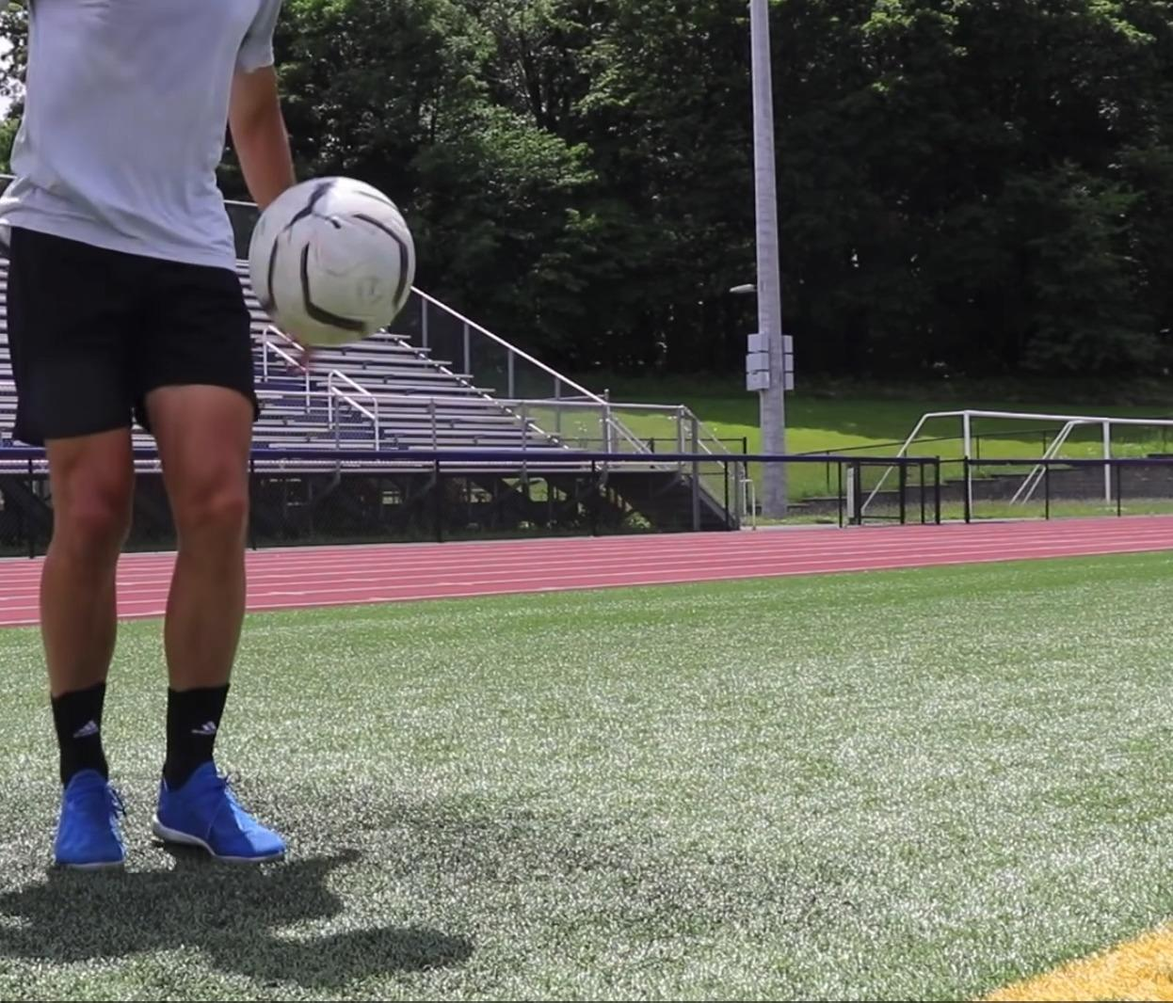ball: (253, 173, 419, 344)
foot: (144, 760, 287, 866), (46, 757, 131, 877)
person: (0, 0, 305, 865)
